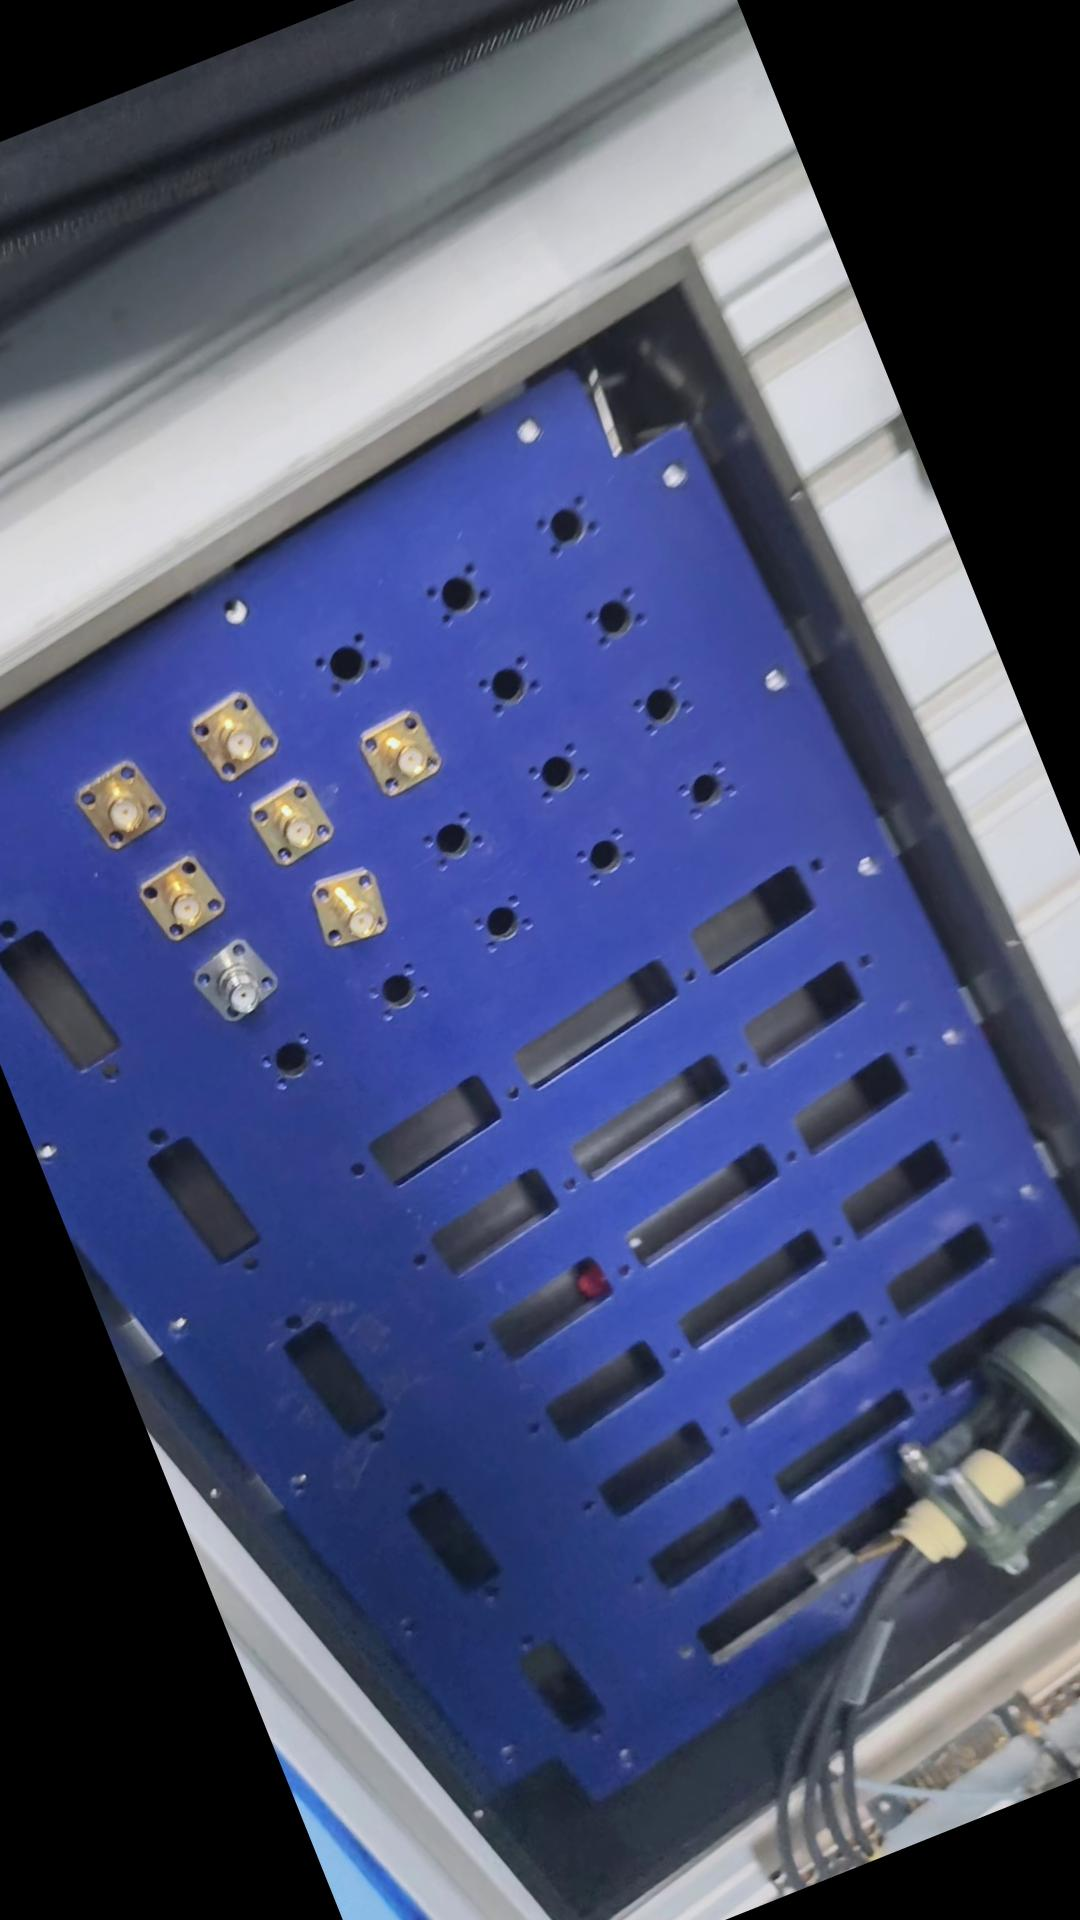SMA: (843, 641, 943, 729), (713, 613, 811, 698), (564, 676, 647, 767), (661, 814, 744, 895), (816, 758, 903, 836), (795, 848, 880, 926), (694, 717, 778, 793)
